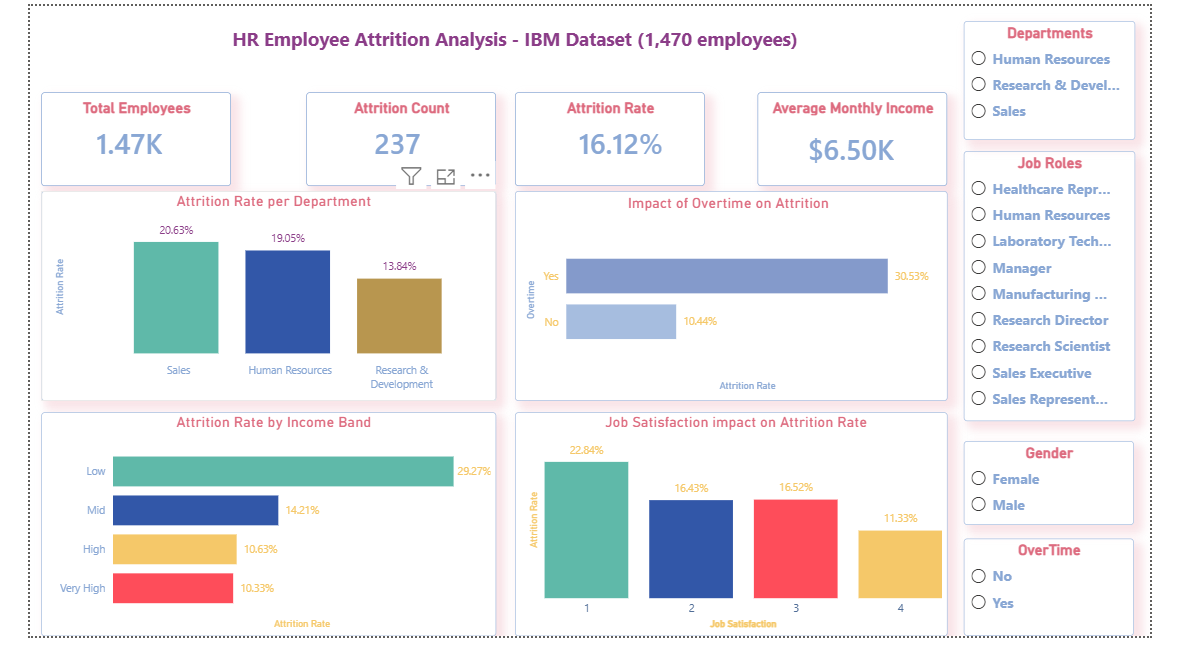

This screenshot's page, from the dashboard's own definition file:
{"tool":"powerbi","page":{"name":"Page 1","canvas":[1280,720],"ordinal":0},"visuals":[{"type":"cardVisual","title":"Total Employees","fields":{"Data":["HR_Attrition_new.Total_employees"]},"box":[12.9,98.6,217.1,107.1],"z":0},{"type":"cardVisual","title":"Attrition Count","fields":{"Data":["HR_Attrition_new.Attrition_count"]},"box":[315.7,98.6,217.1,107.1],"z":1000},{"type":"cardVisual","title":"Average Monthly Income","fields":{"Data":["HR_Attrition_new.Avg_Monthly_Income"]},"box":[831.4,98.6,217.1,107.1],"z":2000},{"type":"cardVisual","title":"Attrition Rate","fields":{"Data":["HR_Attrition_new.Attrition_rate"]},"box":[554.3,98.6,217.1,107.1],"z":3000},{"type":"listSlicer","title":"Departments","fields":{"Values":["HR_Attrition_new.Department"]},"box":[1067.1,17.1,195.7,135.7],"z":4000},{"type":"listSlicer","title":"Job Roles","fields":{"Values":["HR_Attrition_new.JobRole"]},"box":[1067.1,165.7,195.7,308.6],"z":5000},{"type":"columnChart","title":"Attrition Rate per Department","fields":{"Category":["HR_Attrition_new.Department"],"Y":["HR_Attrition_new.Attrition_rate"]},"box":[12.9,211.4,520,240],"z":6000},{"type":"clusteredBarChart","title":"Impact of Overtime on Attrition","fields":{"Y":["HR_Attrition_new.Attrition_rate"],"Category":["HR_Attrition_new.OverTime"]},"box":[554.3,211.4,494.3,240],"z":7000},{"type":"clusteredBarChart","title":"Attrition Rate by Income Band","fields":{"Y":["HR_Attrition_new.Attrition_rate"],"Category":["HR_Attrition_new.Income_band"]},"box":[12.9,464.3,520,255.7],"z":8000},{"type":"columnChart","title":" Job Satisfaction impact on Attrition Rate","fields":{"Category":["HR_Attrition_new.JobSatisfaction"],"Y":["HR_Attrition_new.Attrition_rate"]},"box":[554.3,464.3,494.3,255.7],"z":9000},{"type":"listSlicer","fields":{"Values":["HR_Attrition_new.Gender"]},"box":[1067.1,497.1,194.3,95.7],"z":10000},{"type":"listSlicer","fields":{"Values":["HR_Attrition_new.OverTime"]},"box":[1067.1,608.6,194.3,111.4],"z":11000},{"type":"textbox","box":[120,17.1,868.6,52.9],"z":11001}]}

Visuals, with their boxes in screenshot pixels (x1, y1, x2, y2), scaled from the page's 1280x720 canvas onto the 1180x652 screenshot:
"Total Employees" cardVisual: select_region(12, 89, 212, 186)
"Attrition Count" cardVisual: select_region(291, 89, 491, 186)
"Average Monthly Income" cardVisual: select_region(766, 89, 967, 186)
"Attrition Rate" cardVisual: select_region(511, 89, 711, 186)
"Departments" listSlicer: select_region(984, 15, 1164, 138)
"Job Roles" listSlicer: select_region(984, 150, 1164, 430)
"Attrition Rate per Department" columnChart: select_region(12, 191, 491, 409)
"Impact of Overtime on Attrition" clusteredBarChart: select_region(511, 191, 967, 409)
"Attrition Rate by Income Band" clusteredBarChart: select_region(12, 420, 491, 651)
" Job Satisfaction impact on Attrition Rate" columnChart: select_region(511, 420, 967, 651)
listSlicer - HR_Attrition_new.Gender: select_region(984, 450, 1163, 537)
listSlicer - HR_Attrition_new.OverTime: select_region(984, 551, 1163, 651)
textbox: select_region(111, 15, 911, 63)
